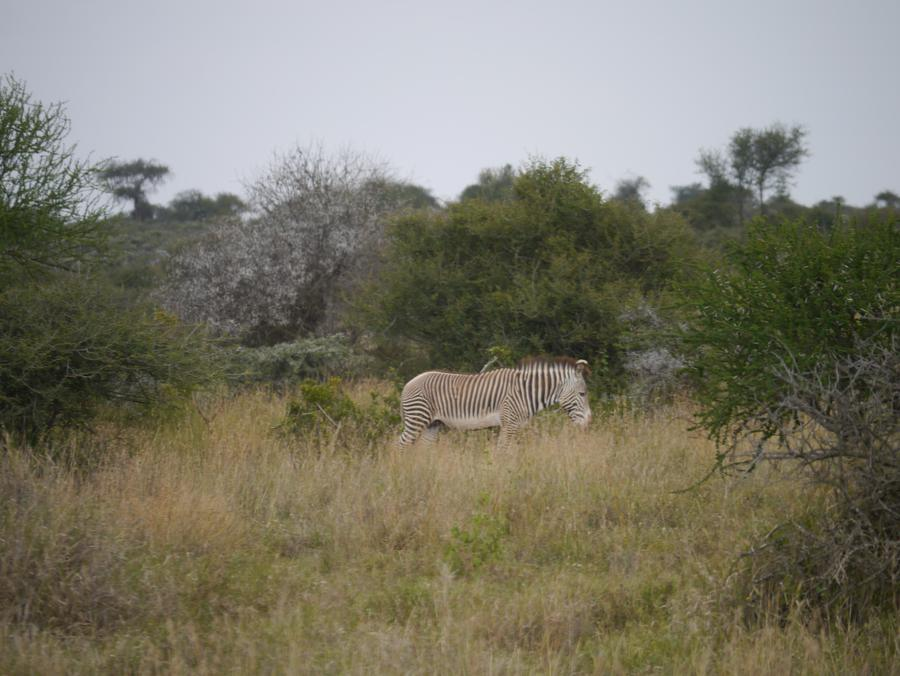zebra_grevys: (398, 357, 528, 431)
